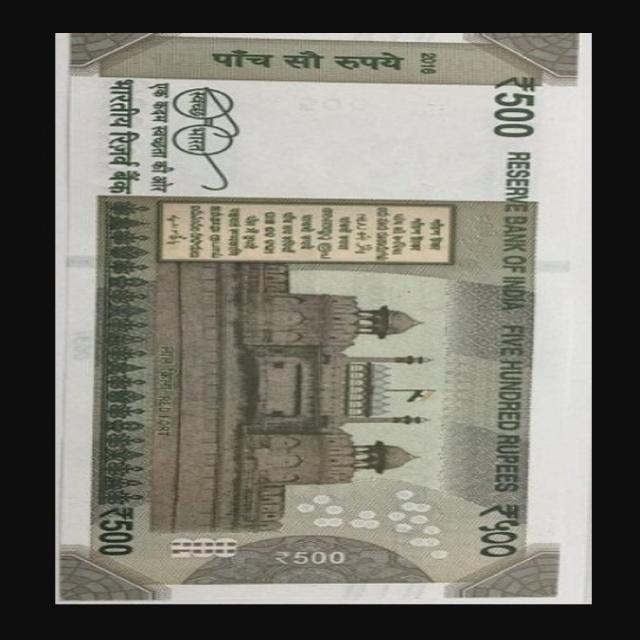500IndianRupees: (50, 35, 594, 604)
